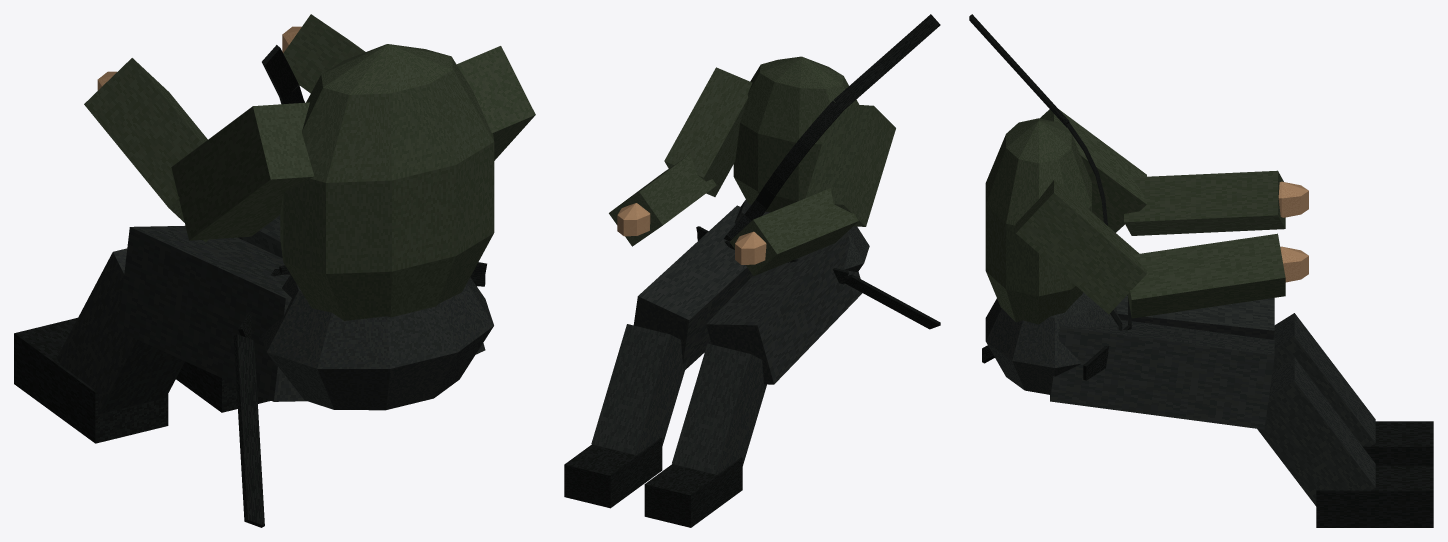
Rendered from driver.glb.
3 renders of one model, left to right at view 1: azimuth 30°, elevation 25°; view 2: azimuth 150°, elevation 25°; view 3: azimuth 270°, elevation 25°, orthographic. The views are drawn at different scales.
Visible parts, largest first — view 1: driver; view 2: driver; view 3: driver.
Boxes of the visible parts, x1,y1,x2,y2 form: driver: (14,14,535,527); driver: (564,14,940,527); driver: (969,14,1433,527).
Size of the model in its own units: 0.6891 by 1.16 by 1.15.
1 material, 1 textured.
